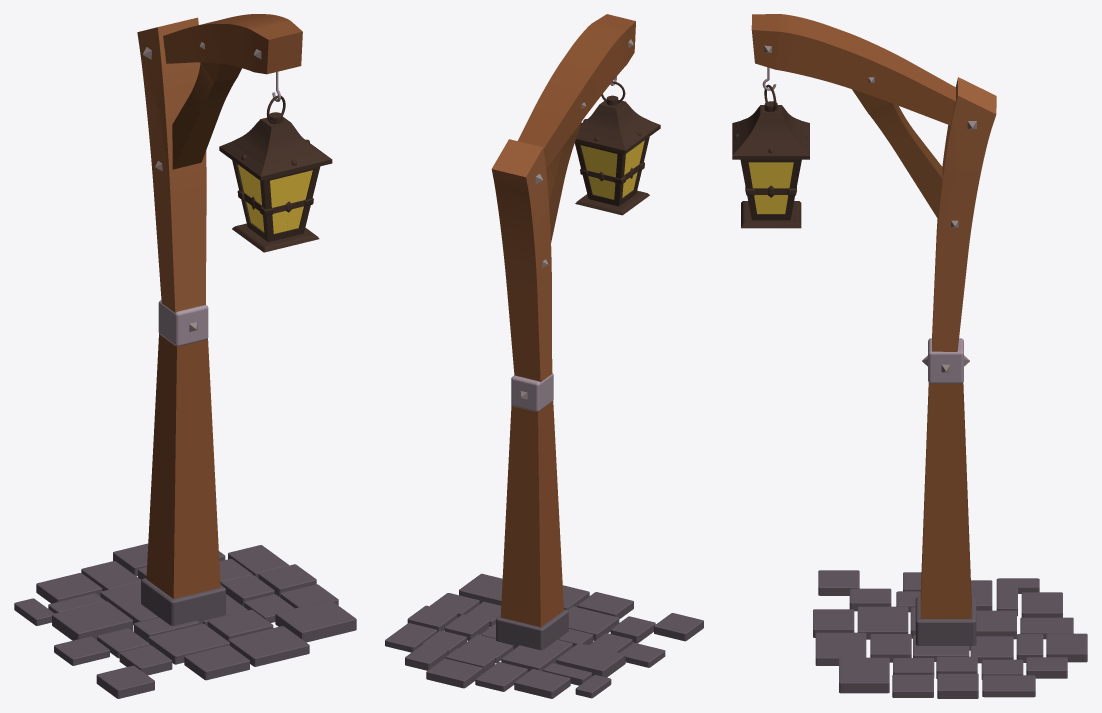
File: lamppost_e427c94c.glb
3 renders of one model, left to right at view 1: azimuth 30°, elevation 25°; view 2: azimuth 150°, elevation 25°; view 3: azimuth 270°, elevation 25°, orthographic. The views are drawn at different scales.
Parts seen in each view (by area): view 1: Cube.017_2, Cube.001_1, Cube.011_7, Cube.014_14, Cube.013_9, Cube.012_8, Cube_0, Cube.004_3; view 2: Cube.017_2, Cube.001_1, Cube.011_7, Cube.013_9, Cube.014_14, Cube_0, Cube.012_8, Cube.004_3; view 3: Cube.017_2, Cube.013_9, Cube.001_1, Cube.011_7, Cube.014_14, Cube.012_8, Cube_0, Cube.004_3.
Boxes of the visible parts, box(x1,y1,x2,y2) form: Cube.017_2: box(14, 543, 356, 698); Cube.001_1: box(146, 334, 220, 598); Cube.011_7: box(137, 17, 206, 312); Cube.014_14: box(219, 116, 332, 252); Cube.013_9: box(163, 14, 302, 74); Cube.012_8: box(172, 62, 241, 169); Cube_0: box(141, 578, 225, 625); Cube.004_3: box(158, 300, 208, 346); Cube.017_2: box(385, 573, 703, 698); Cube.001_1: box(500, 401, 563, 627); Cube.011_7: box(491, 139, 552, 382); Cube.013_9: box(518, 14, 635, 168); Cube.014_14: box(575, 100, 660, 215); Cube_0: box(496, 609, 568, 650); Cube.012_8: box(546, 121, 581, 242); Cube.004_3: box(511, 373, 553, 411); Cube.017_2: box(813, 570, 1087, 698); Cube.013_9: box(751, 14, 955, 125); Cube.001_1: box(920, 383, 971, 618); Cube.011_7: box(932, 77, 996, 351); Cube.014_14: box(732, 105, 809, 228); Cube.012_8: box(852, 89, 942, 219); Cube_0: box(915, 596, 976, 650); Cube.004_3: box(928, 338, 963, 383).
Size of the model in its own units: 2.04 by 4.87 by 2.54.
